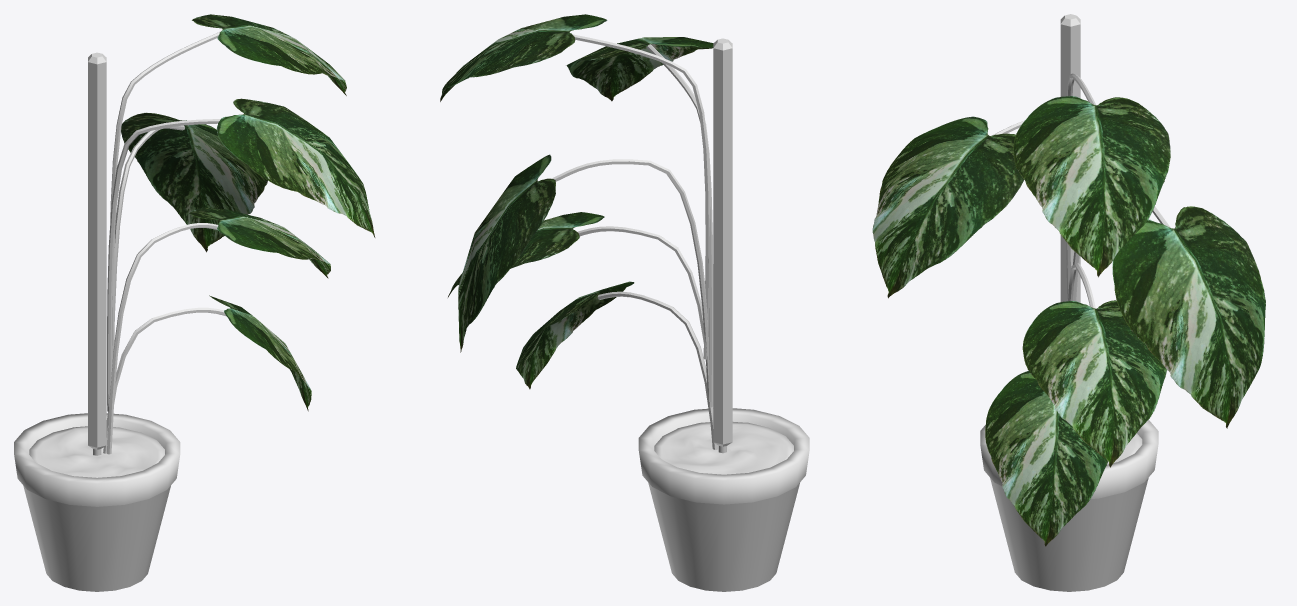
File: MonsteraVariegata.fbx
3 views of the same model, side by side, from view 1: azimuth 30°, elevation 25°; view 2: azimuth 150°, elevation 25°; view 3: azimuth 270°, elevation 25° (orthographic). The views are drawn at different scales.
Parts seen in each view (by area): view 1: Cylinder001, Plane009, Plane008, Cylinder003, Line001, Cylinder002, Plane011, Plane010, Plane007; view 2: Cylinder001, Cylinder003, Plane008, Line001, Cylinder002, Plane011, Plane009, Plane007, Plane010; view 3: Plane008, Plane011, Plane009, Plane010, Cylinder001, Plane007, Cylinder003, Line001.
Part boxes in pixels (<box>): Cylinder001: <box>14,413,180,591</box>; Plane009: <box>216,98,375,237</box>; Plane008: <box>121,112,267,252</box>; Cylinder003: <box>88,52,106,455</box>; Line001: <box>103,31,226,454</box>; Cylinder002: <box>29,426,164,477</box>; Plane011: <box>192,14,346,95</box>; Plane010: <box>189,207,330,278</box>; Plane007: <box>209,295,311,411</box>; Cylinder001: <box>638,408,809,591</box>; Cylinder003: <box>713,38,732,453</box>; Plane008: <box>458,154,555,352</box>; Line001: <box>551,34,717,449</box>; Cylinder002: <box>654,422,793,474</box>; Plane011: <box>440,14,607,101</box>; Plane009: <box>566,37,713,101</box>; Plane007: <box>516,281,634,389</box>; Plane010: <box>448,212,604,297</box>; Plane008: <box>1112,206,1265,428</box>; Plane011: <box>1013,96,1170,277</box>; Plane009: <box>872,116,1024,298</box>; Plane010: <box>1022,300,1166,467</box>; Cylinder001: <box>980,419,1158,591</box>; Plane007: <box>985,371,1108,546</box>; Cylinder003: <box>1060,14,1080,302</box>; Line001: <box>992,73,1170,308</box>.
Size of the model in its own units: 28.12 by 40.77 by 29.73.
